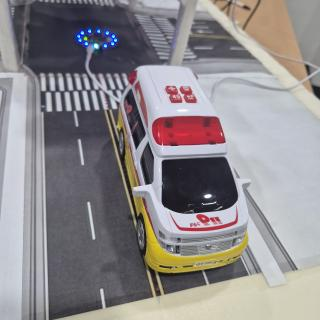Ambulance: (118, 65, 251, 273)
